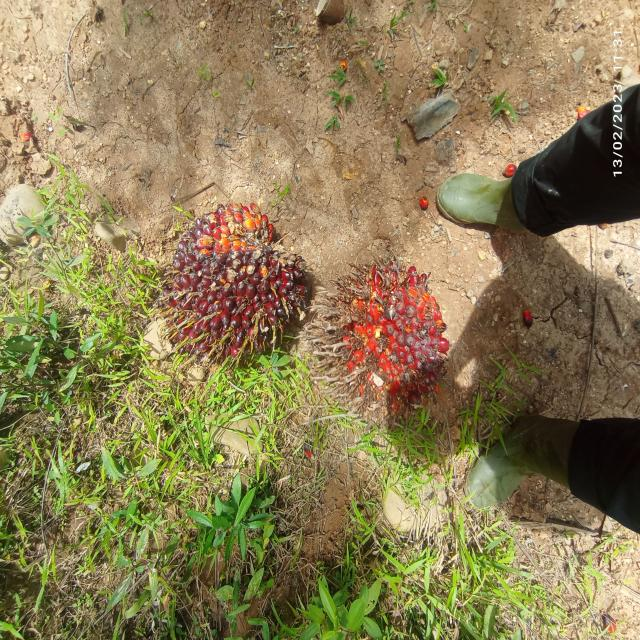fraksi 1: (135, 174, 346, 382)
fraksi 4: (300, 251, 455, 430)
